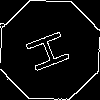H: (24, 24, 80, 75)
